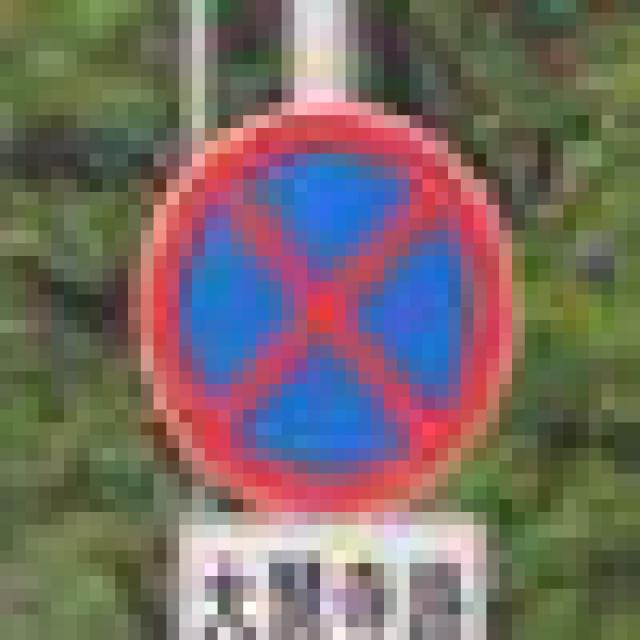no_parking: (128, 90, 499, 512)
